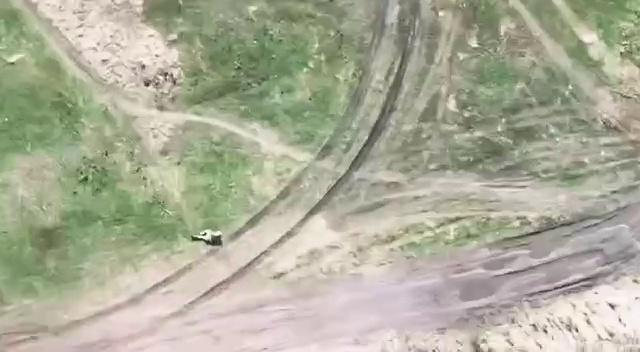person: (192, 228, 222, 244)
